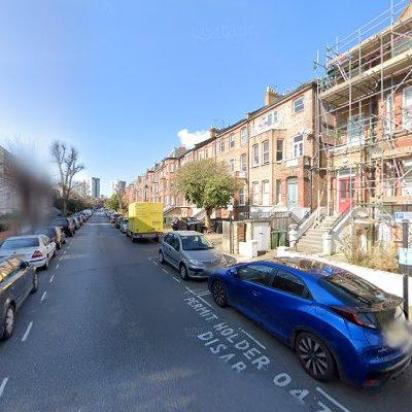stationary-car-onstreet: (205, 251, 405, 393), (0, 250, 38, 342), (156, 229, 212, 280), (0, 234, 58, 272), (36, 226, 64, 250), (49, 217, 75, 238), (68, 216, 80, 230), (110, 213, 122, 225), (116, 216, 126, 230), (118, 220, 128, 232)
stationary-heavy-truck-onstreet: (127, 200, 164, 244)
